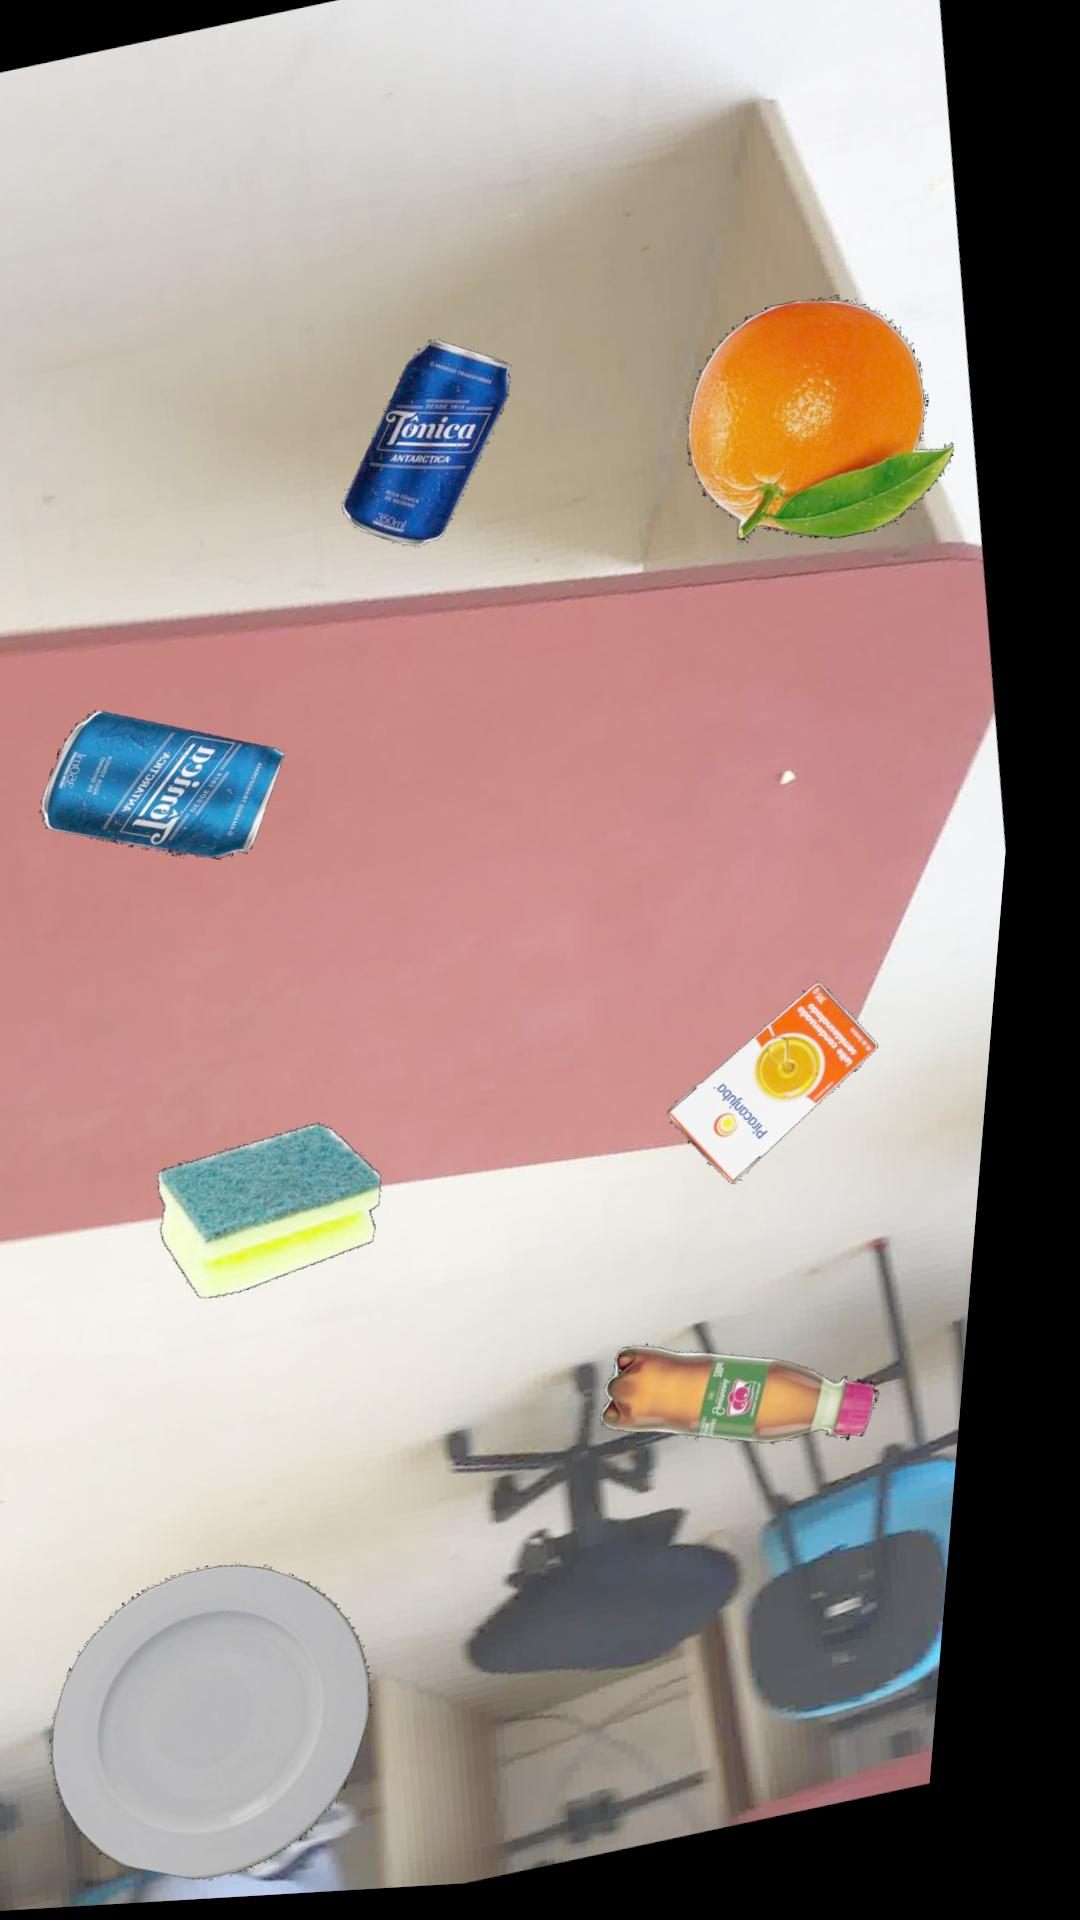guarana: (624, 1356, 902, 1456)
orange: (694, 310, 961, 551)
plate: (80, 1571, 401, 1886)
sponge: (177, 1129, 401, 1303)
tonic: (51, 713, 297, 865), (349, 347, 516, 554)
